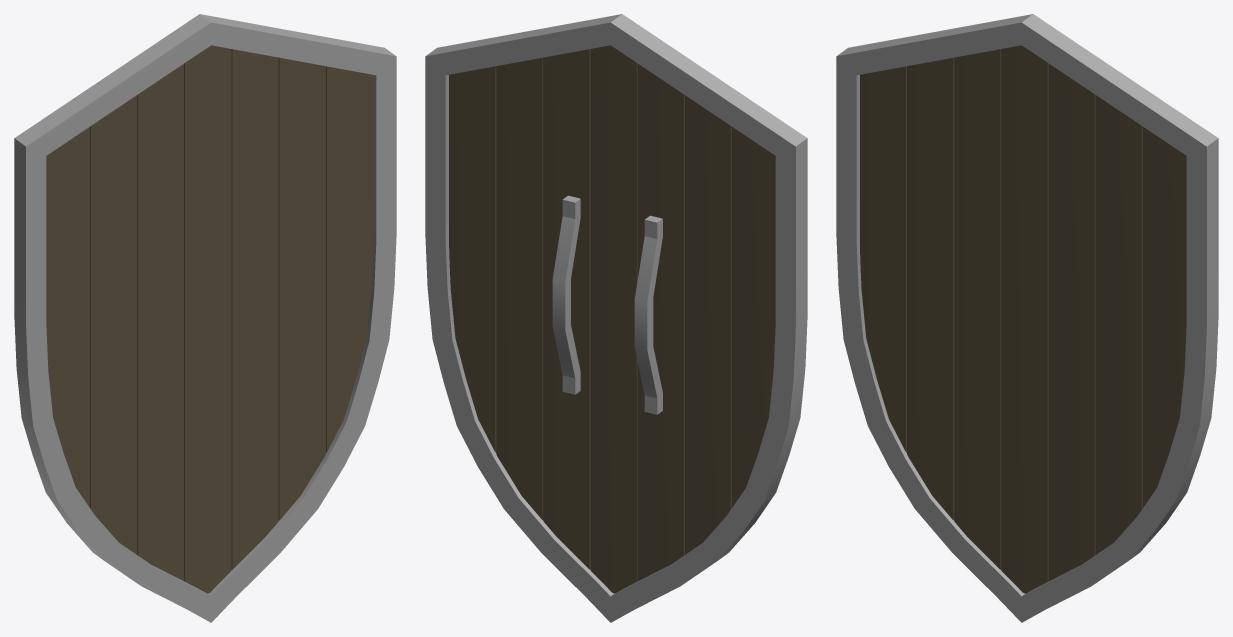
The model's file is KnightShield.fbx.
3 renders of one model, left to right at view 1: azimuth 30°, elevation 25°; view 2: azimuth 150°, elevation 25°; view 3: azimuth 330°, elevation 25°, orthographic.
Visible parts, largest first — view 1: Shield:Shield; view 2: Shield:Shield; view 3: Shield:Shield.
Part boxes in pixels (x1,y1,x2,y2): Shield:Shield: (14,14,396,622); Shield:Shield: (425,14,807,622); Shield:Shield: (836,14,1218,622).
Bounding box in the file's own units: 0.4471 × 0.6925 × 0.0505.
